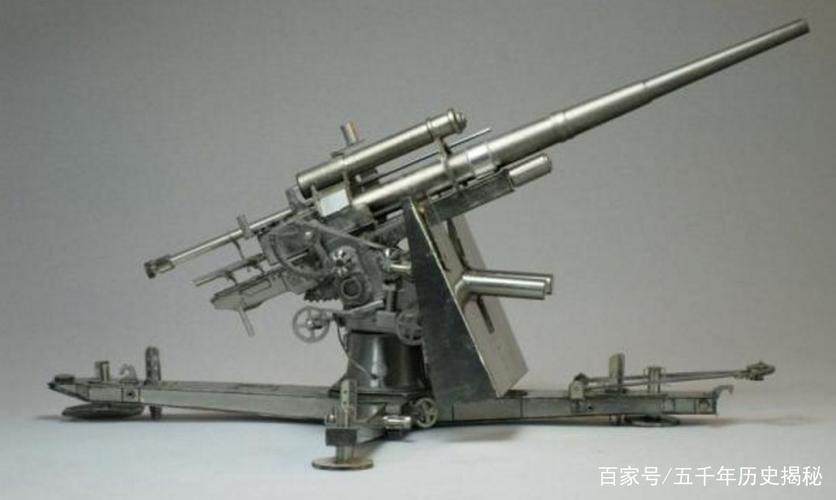MIL_SPG: (49, 20, 807, 469)
